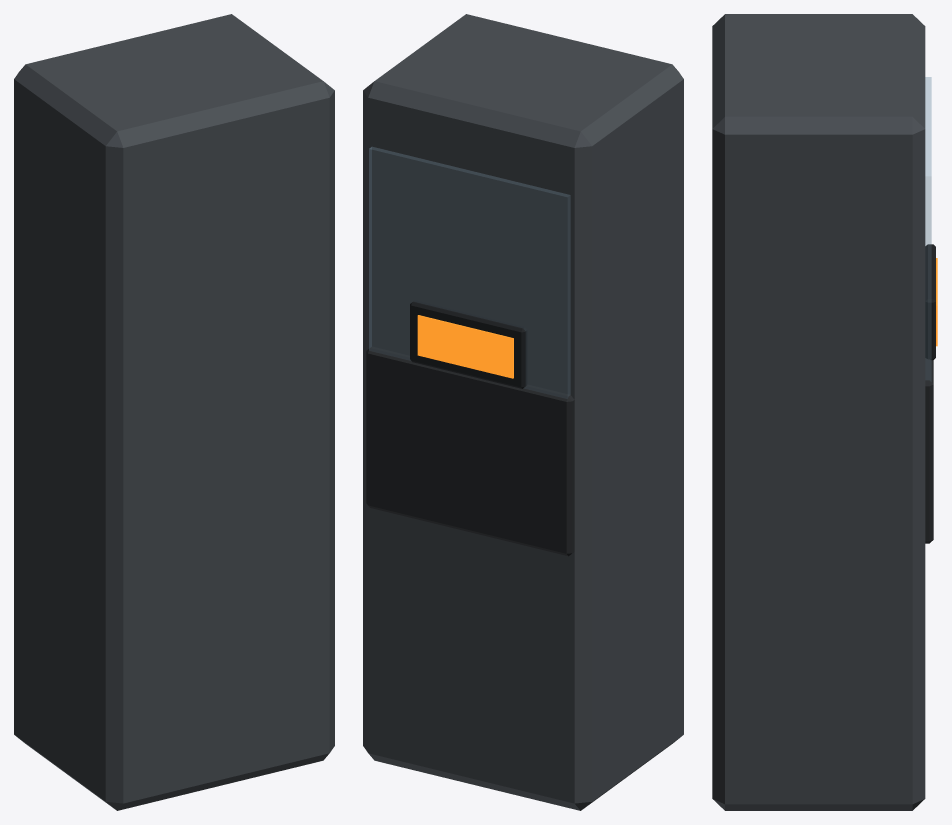
File: drinks_dispenser.glb
3 views of the same model, side by side, from view 1: azimuth 30°, elevation 25°; view 2: azimuth 150°, elevation 25°; view 3: azimuth 270°, elevation 25° (orthographic). The views are drawn at different scales.
Parts seen in each view (by area): view 1: drinks_dispenser; view 2: drinks_dispenser; view 3: drinks_dispenser.
Boxes of the visible parts, x1,y1,x2,y2 form: drinks_dispenser: (14,14,334,810); drinks_dispenser: (363,14,683,810); drinks_dispenser: (712,14,937,810).
Bounding box in the file's own units: 0.6 × 1.7 × 0.5.
